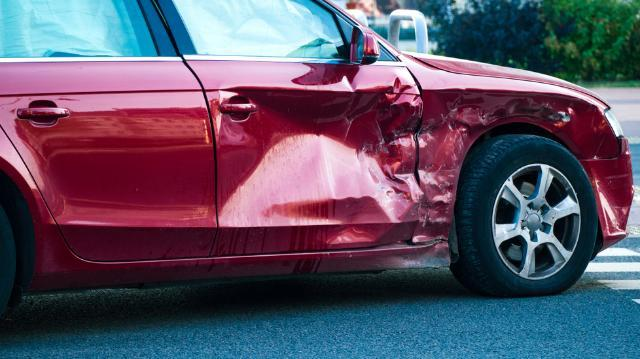Bumper: (586, 148, 640, 239)
Door: (191, 55, 418, 281)
Fender: (411, 77, 632, 285)
